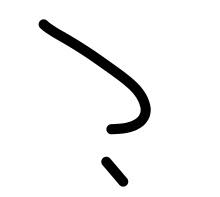b: (34, 13, 104, 84)
